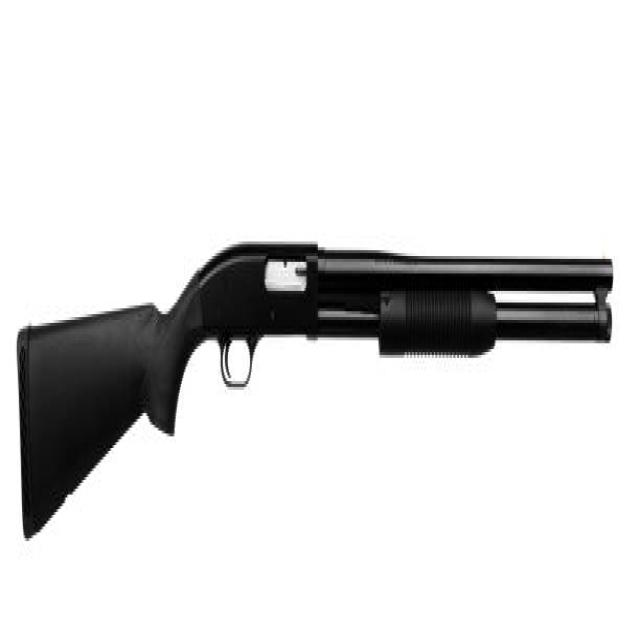rifle: (13, 238, 617, 574)
